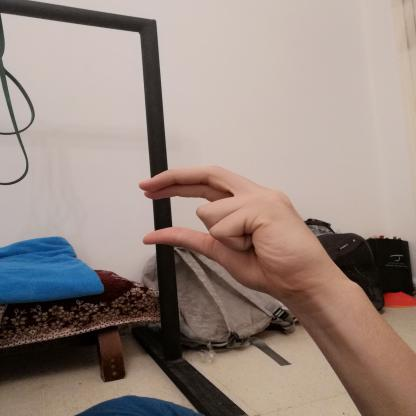DHELL: (126, 157, 342, 310)
